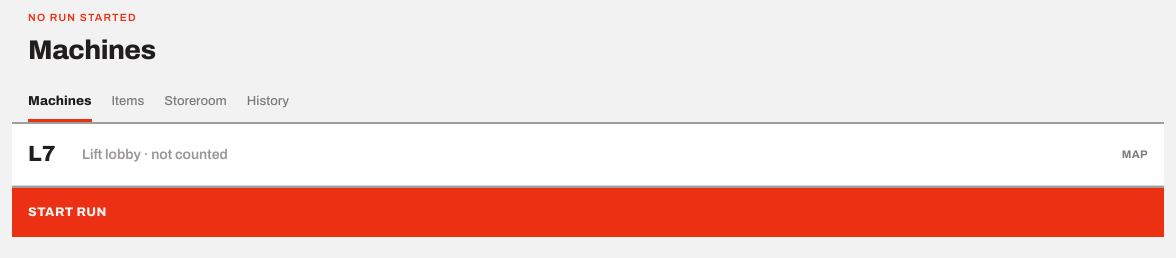
Test: MachineListScreen › the header and footer › creates the run for the local day when Start run is tapped
Step 1. Click the button "Start run" → (67, 212), box [12,188,1164,237]
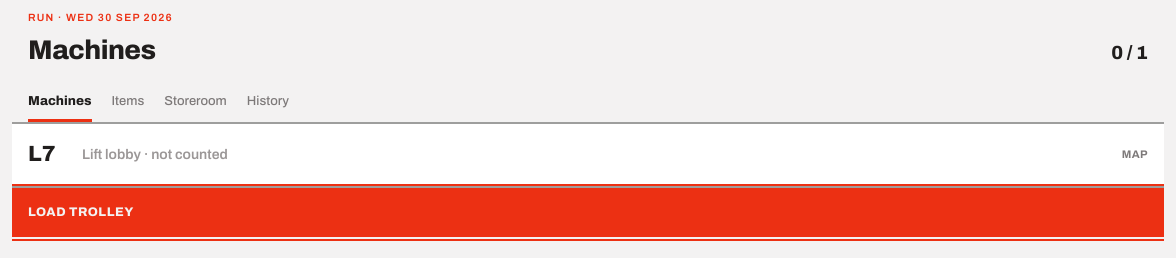
Expected: the button "Start run" is gone
